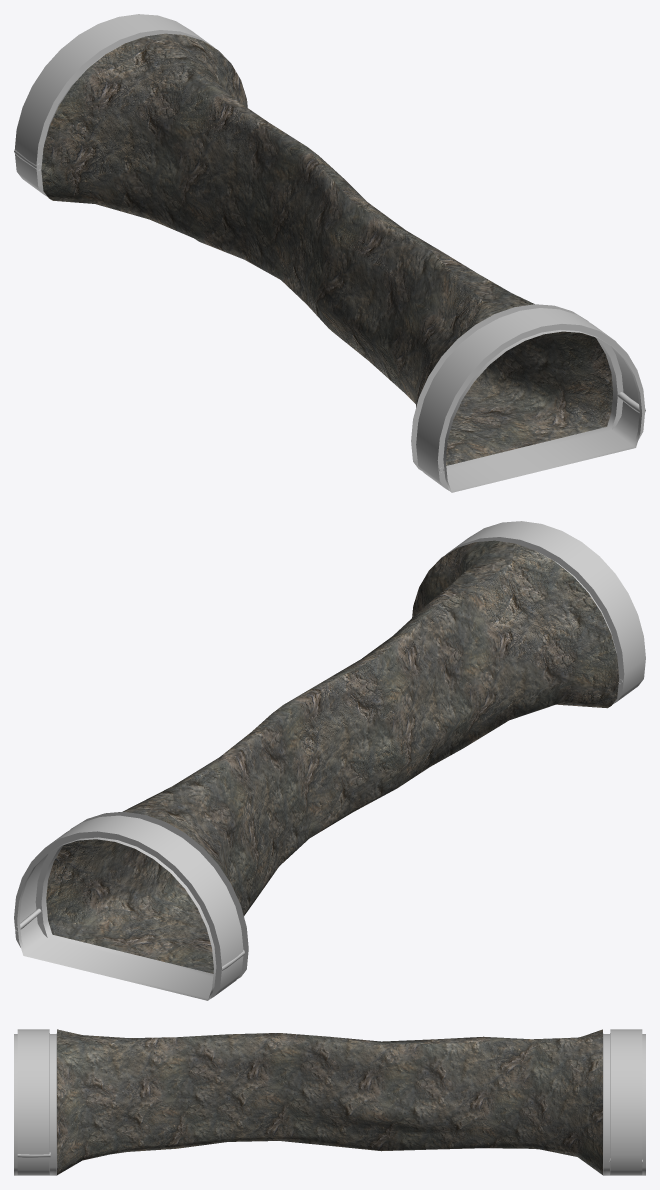
Rendered from Constrained_Tall.DAE.
The picture shows the model from 3 angles, top to bottom: view 1: azimuth 30°, elevation 25°; view 2: azimuth 150°, elevation 25°; view 3: azimuth 270°, elevation 25°; orthographic projection. The views are drawn at different scales.
Visible parts, largest first — view 1: Tunnel_Rock, Tunnel; view 2: Tunnel_Rock, Tunnel; view 3: Tunnel_Rock, Tunnel.
Boxes of the visible parts, x1=… form: Tunnel_Rock: x1=41, y1=33, x2=613, y2=465; Tunnel: x1=14, y1=14, x2=645, y2=492; Tunnel_Rock: x1=46, y1=540, x2=619, y2=973; Tunnel: x1=14, y1=521, x2=645, y2=1000; Tunnel_Rock: x1=57, y1=1029, x2=602, y2=1175; Tunnel: x1=14, y1=1029, x2=645, y2=1175.
Bounding box in the file's own units: 564 × 2000 × 366.
